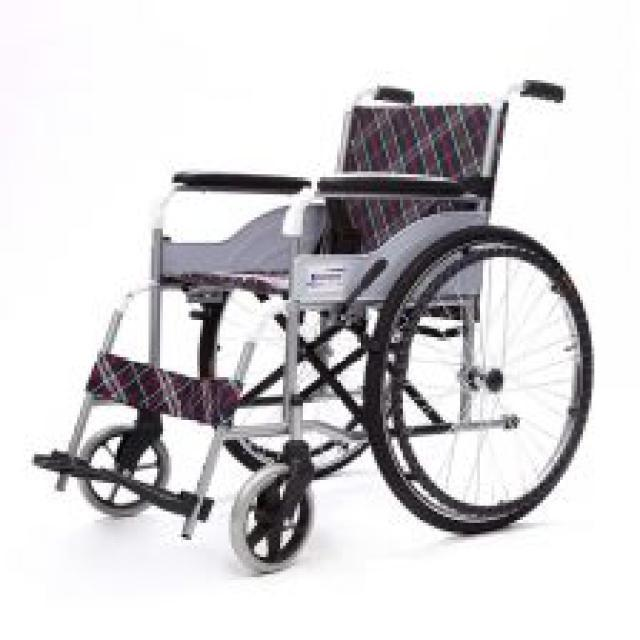wheelchairs: (41, 86, 594, 569)
